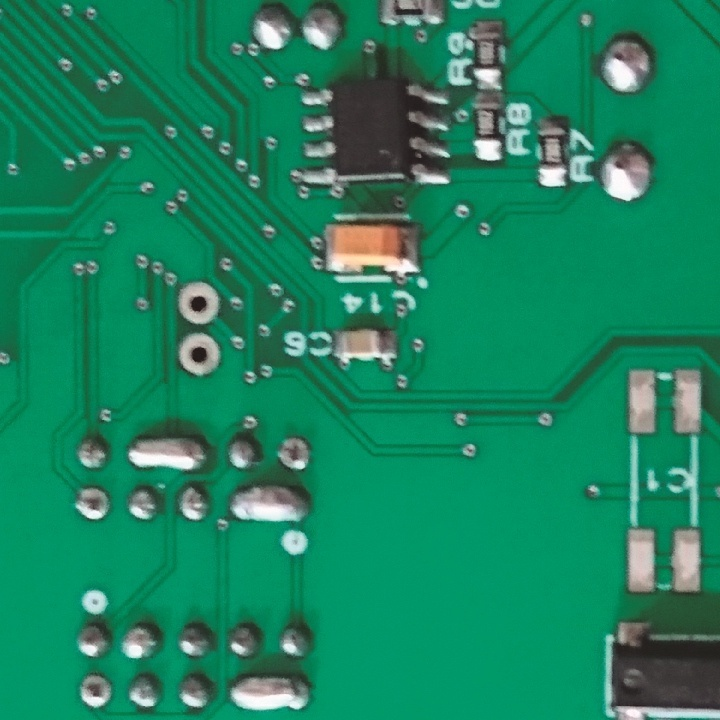F: (175, 278, 223, 325), (176, 329, 219, 380), (272, 433, 314, 472), (73, 482, 112, 523), (75, 672, 114, 712)
P: (228, 478, 312, 529), (226, 671, 313, 712), (123, 433, 206, 472)
